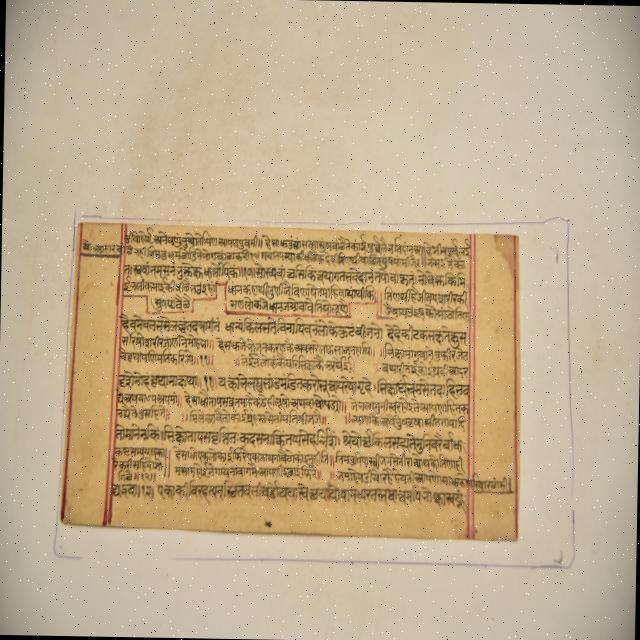text_paragraph: (61, 221, 517, 537)
